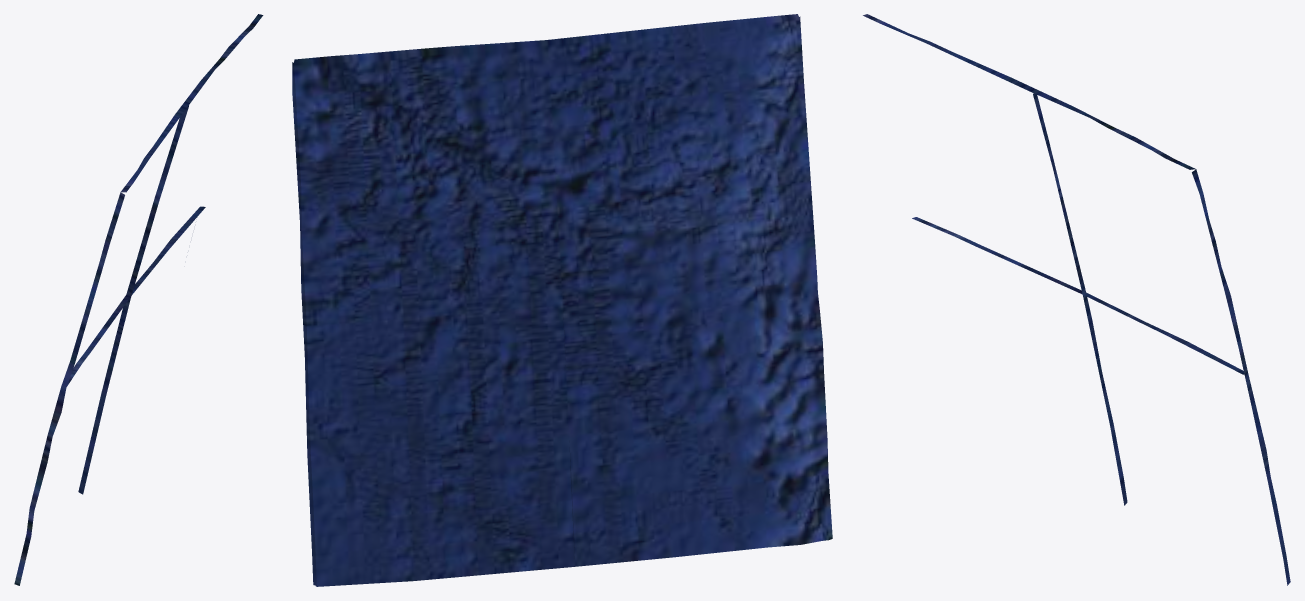
The picture shows the model from 3 angles, left to right: view 1: azimuth 30°, elevation 25°; view 2: azimuth 150°, elevation 25°; view 3: azimuth 270°, elevation 25°; orthographic projection. The views are drawn at different scales.
Bounding box in the file's own units: 559246 × 612083 × 526007.
1 material, 1 textured.
